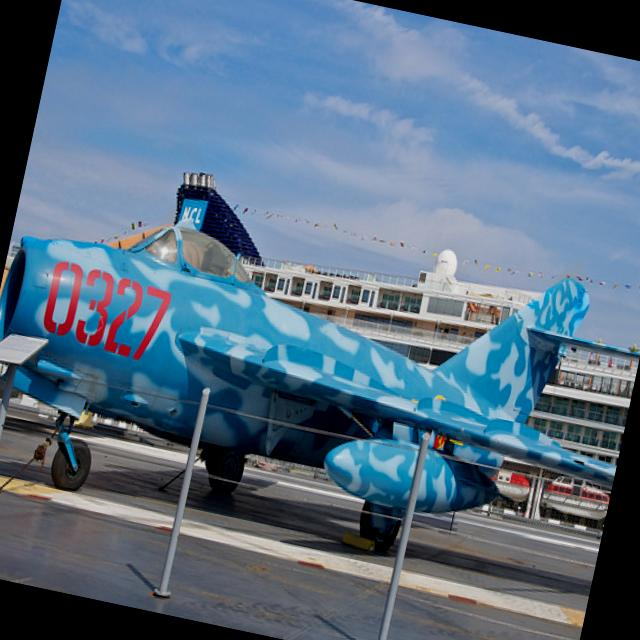Vehicle: (0, 244, 33, 428)
